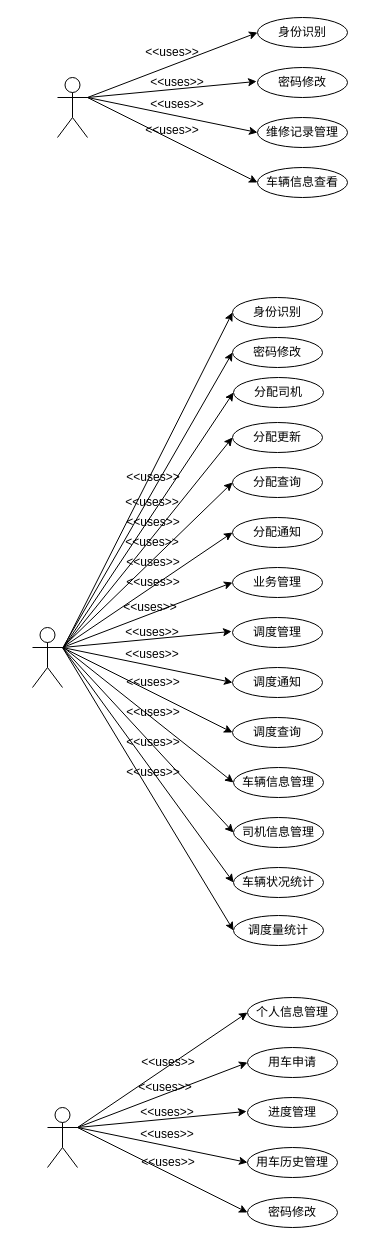
The diagram is 365 pixels wide and 1245 high, and some of its shapes have lost their labels. Here are the shapes that lost their labels. From the top down, the box of each, then its label:
(56, 76, 88, 138): 维修员
(32, 626, 62, 688): 车辆调度员
(46, 1106, 78, 1168): 用户
